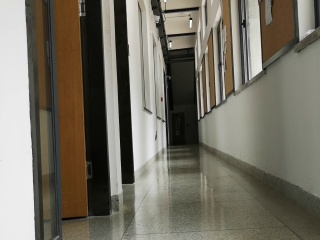room: (23, 1, 114, 232)
